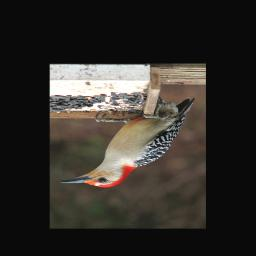Woodpecker: (59, 96, 197, 188)
